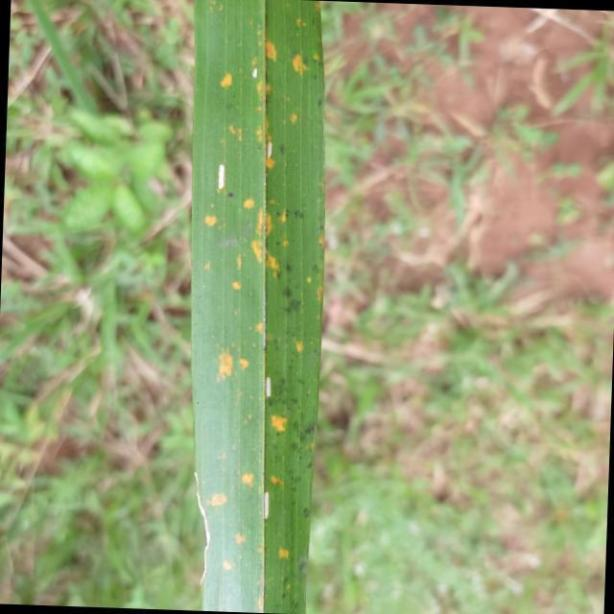Kalium: (187, 5, 329, 614)
